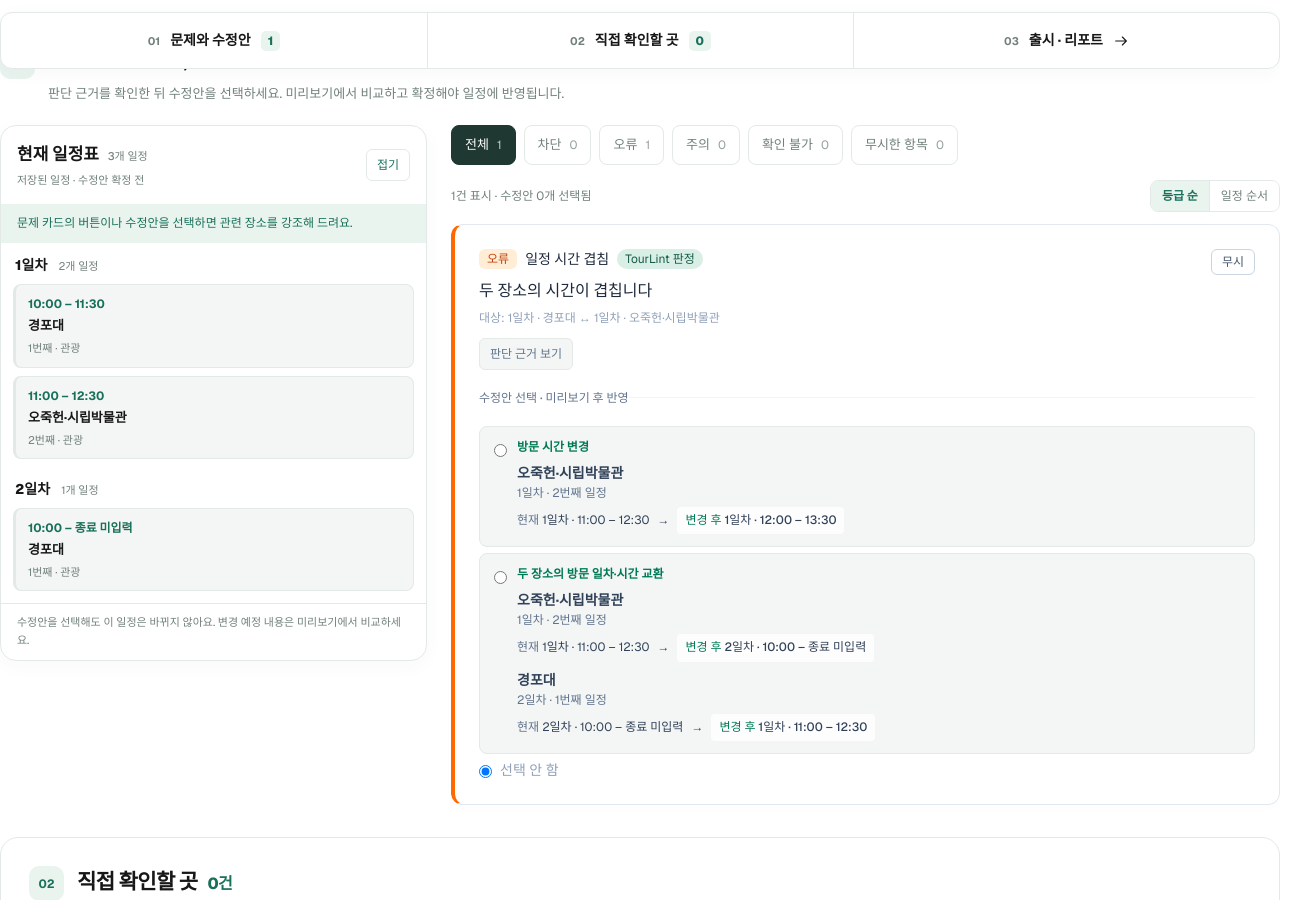
Test: 수정안 확정·재검수 후 현재 일정표를 서버의 최신 일정으로 갱신한다
(page scrolled)
Check: the element named "현재 일정표" shows "경포대", box [28,318,64,334]
Click the 1st radio button.
click(500, 450)  # box [494,444,507,457]
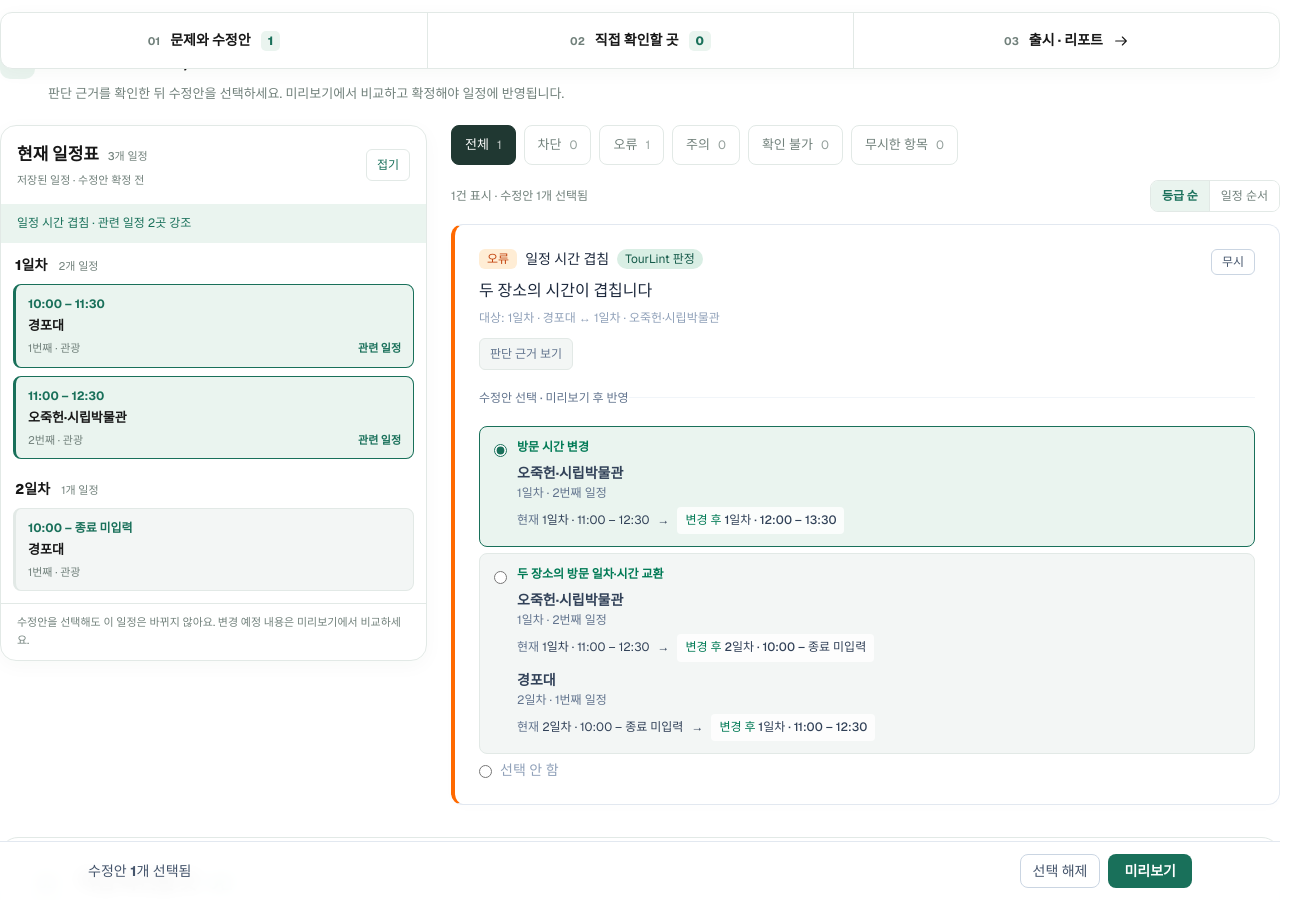
Check: the button "미리보기" is shown
Click the button "미리보기".
click(1150, 871)  # box [1108,854,1192,888]
(page scrolled)
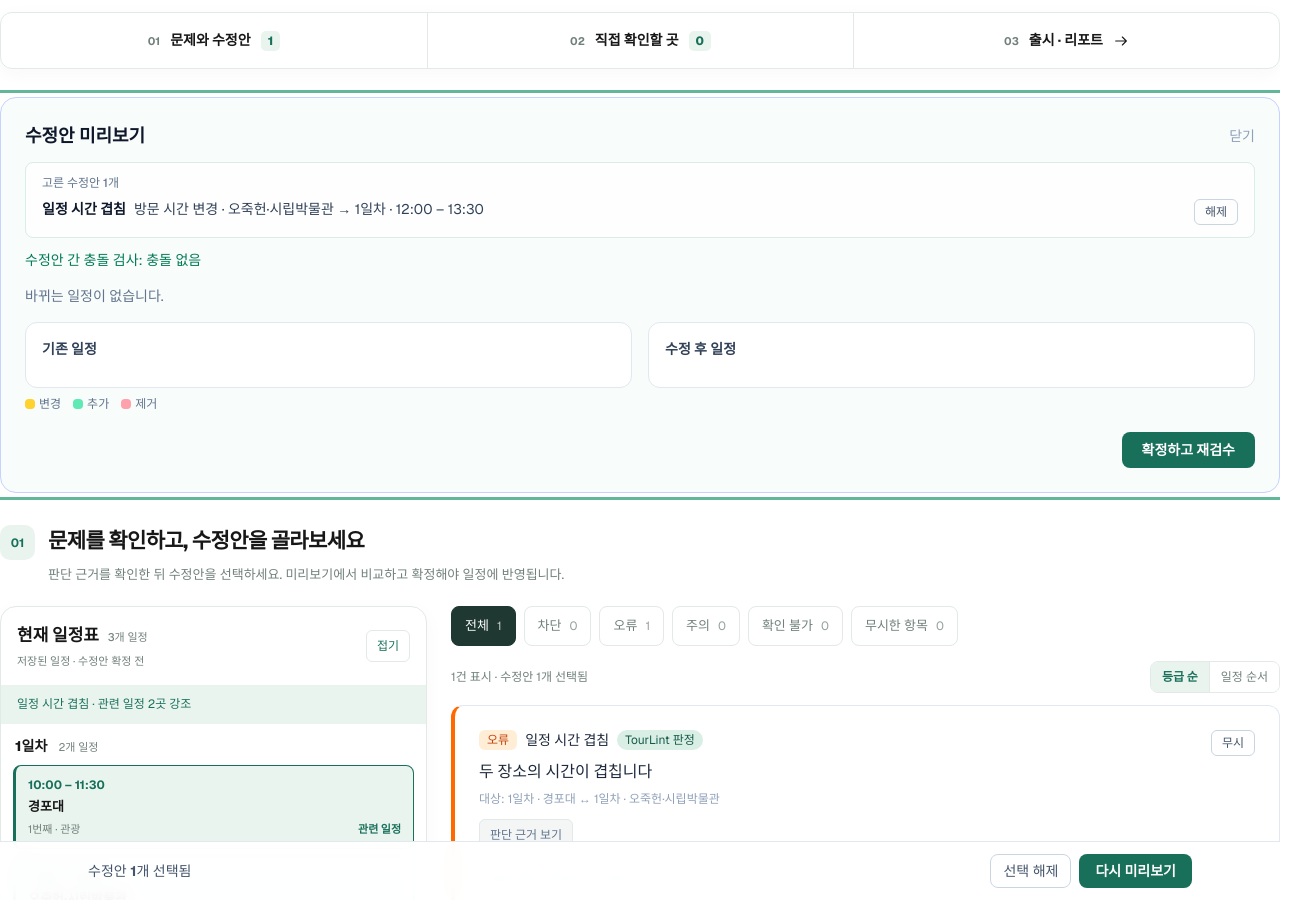
Check: the element named "현재 일정표" shows "경포대", box [28,798,64,816]
Check: the button "확정하고 재검수" is shown
Click the button "확정하고 재검수".
click(1188, 450)  # box [1122,432,1255,468]
(page scrolled)
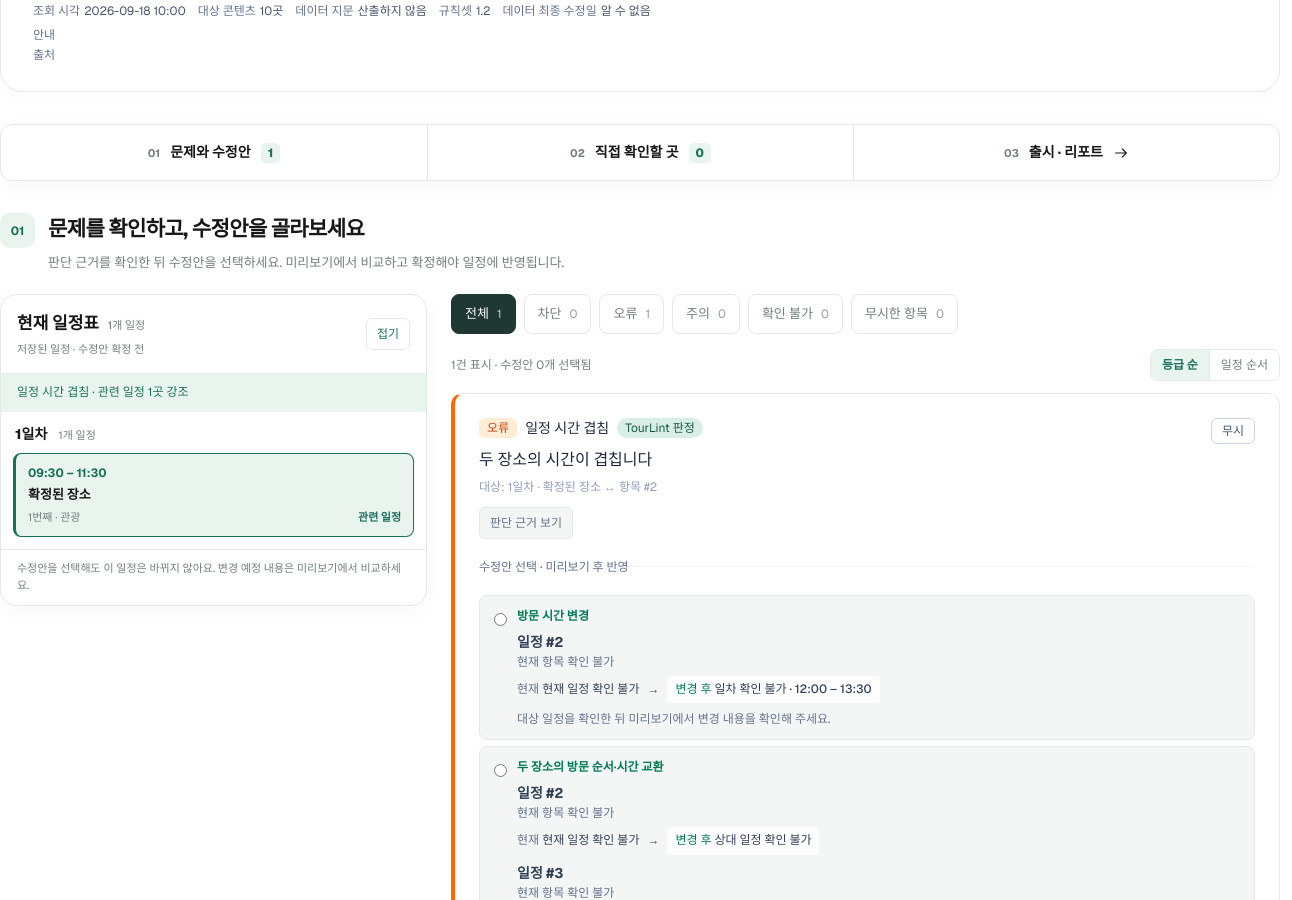
Check: the element named "현재 일정표" shows "확정된 장소", box [28,486,91,504]
Check: the element named "현재 일정표" shows "09:30", box [28,466,64,482]
Check: the text "수정안 0개 선택됨" is shown, box [451,356,591,374]
